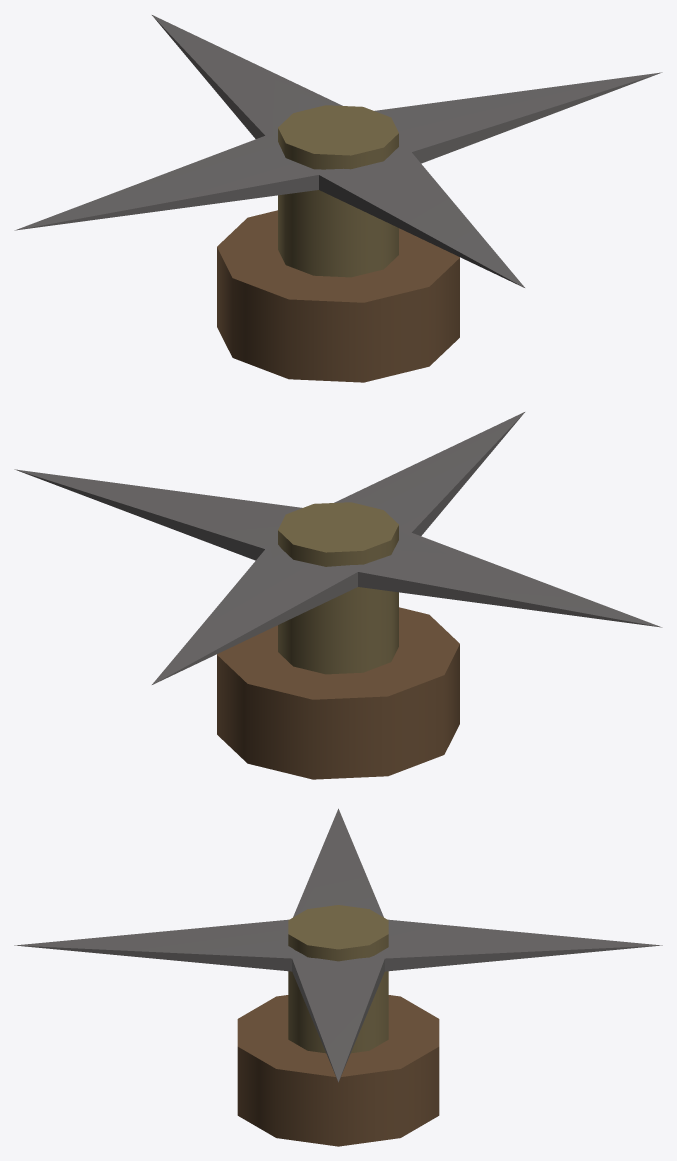
File: Blade.fbx
3 views of the same model, one above another, from view 1: azimuth 30°, elevation 25°; view 2: azimuth 150°, elevation 25°; view 3: azimuth 270°, elevation 25° (orthographic). The views are drawn at different scales.
Visible parts, largest first — view 1: RotatingPart, Blade; view 2: RotatingPart, Blade; view 3: RotatingPart, Blade.
Boxes of the visible parts, x1=… form: RotatingPart: x1=14, y1=15, x2=662, y2=287; Blade: x1=217, y1=210, x2=459, y2=382; RotatingPart: x1=14, y1=412, x2=662, y2=684; Blade: x1=217, y1=607, x2=459, y2=779; RotatingPart: x1=14, y1=808, x2=662, y2=1082; Blade: x1=237, y1=995, x2=439, y2=1146.
Size of the model in its own units: 138 by 41.12 by 138.
